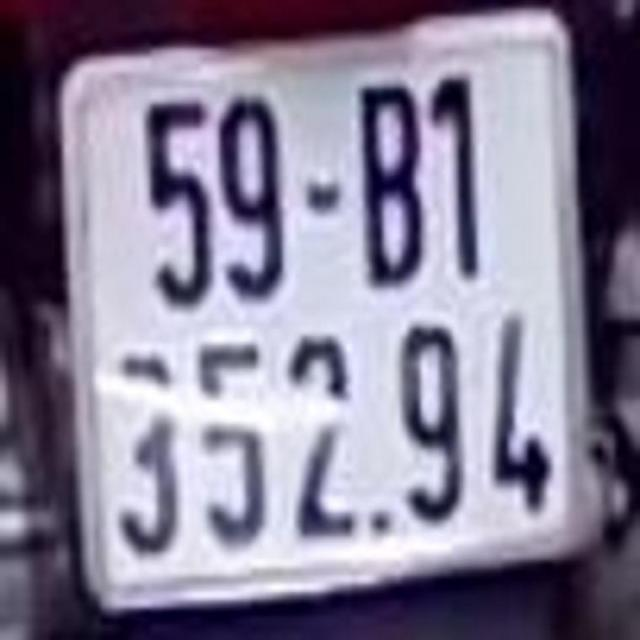1: (430, 69, 480, 284)
2: (286, 327, 363, 539)
3: (113, 348, 178, 548)
4: (483, 304, 561, 522)
5: (142, 96, 212, 304), (196, 340, 267, 540)
9: (396, 318, 466, 524), (218, 103, 284, 296)
B: (356, 77, 422, 290)
